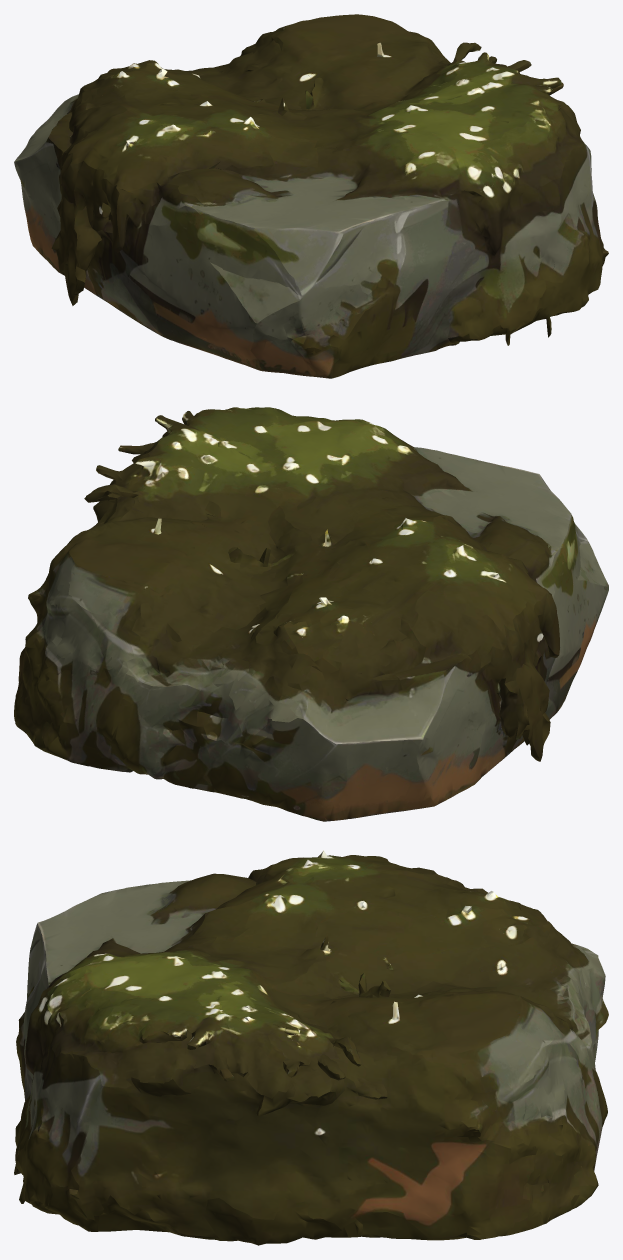
The model's file is volt_moss_node.glb.
The picture shows the model from 3 angles, top to bottom: view 1: azimuth 30°, elevation 25°; view 2: azimuth 150°, elevation 25°; view 3: azimuth 270°, elevation 25°; orthographic projection. The views are drawn at different scales.
Visible parts, largest first — view 1: volt_moss_node; view 2: volt_moss_node; view 3: volt_moss_node.
Part boxes in pixels (x1=…): volt_moss_node: x1=14, y1=14, x2=608, y2=378; volt_moss_node: x1=14, y1=407, x2=608, y2=821; volt_moss_node: x1=14, y1=850, x2=608, y2=1245.
Bounding box in the file's own units: 0.7881 × 0.319 × 0.8.
1 material, 1 textured.
